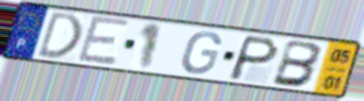1: (136, 22, 162, 72)
B: (269, 38, 325, 89)
D: (34, 10, 85, 60)
E: (74, 14, 132, 67)
G: (179, 30, 224, 76)
P: (225, 34, 282, 83)
